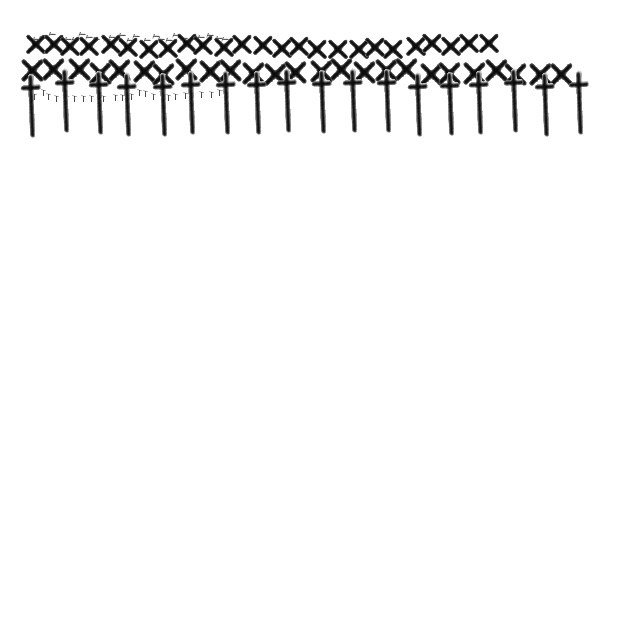double: (40, 54, 68, 84), (66, 54, 94, 84), (240, 58, 268, 88), (308, 56, 336, 86), (328, 54, 356, 84), (436, 58, 464, 88), (106, 56, 134, 84), (150, 60, 178, 88), (262, 60, 290, 88), (282, 58, 310, 86), (418, 60, 446, 88), (502, 60, 530, 88), (548, 60, 576, 88), (88, 58, 114, 88), (132, 56, 158, 86), (174, 54, 200, 84), (198, 56, 224, 86), (394, 54, 420, 84), (462, 58, 488, 88), (20, 56, 46, 84), (218, 56, 244, 84), (352, 58, 378, 86), (374, 56, 400, 84), (484, 56, 510, 84), (528, 60, 554, 88), (116, 34, 140, 60), (137, 36, 161, 62), (175, 30, 199, 56), (191, 32, 215, 58), (212, 34, 236, 60), (251, 32, 275, 58), (305, 36, 329, 62), (326, 36, 350, 62), (347, 36, 371, 62), (363, 34, 387, 60), (381, 36, 405, 62), (420, 30, 444, 56), (457, 30, 481, 56), (477, 30, 501, 56), (24, 32, 48, 56), (42, 32, 66, 56), (58, 34, 82, 58), (77, 34, 101, 58), (99, 32, 123, 56), (156, 36, 180, 60), (230, 32, 254, 56), (270, 36, 294, 60), (287, 34, 311, 58), (404, 34, 428, 58), (439, 34, 463, 58)
enseble_chain: (13, 73, 51, 139), (47, 68, 85, 134), (81, 70, 119, 136), (109, 72, 147, 138), (145, 72, 183, 138), (173, 70, 211, 136), (208, 70, 246, 136), (239, 70, 277, 136), (269, 68, 307, 134), (304, 69, 342, 135), (335, 68, 373, 134), (369, 68, 407, 134), (400, 72, 438, 138), (432, 71, 470, 137), (461, 70, 499, 136), (496, 68, 534, 134), (527, 72, 565, 138), (561, 70, 599, 136), (38, 36, 46, 42), (48, 32, 56, 38), (78, 32, 86, 38), (126, 38, 134, 44), (132, 34, 140, 40), (143, 38, 151, 44), (152, 34, 160, 40), (165, 38, 173, 44), (180, 36, 188, 42), (215, 36, 223, 42), (120, 94, 126, 102), (166, 94, 172, 102), (222, 90, 228, 98), (32, 94, 38, 100), (46, 94, 52, 100), (54, 96, 60, 102), (64, 96, 70, 102), (72, 96, 78, 102), (32, 38, 40, 42), (56, 38, 64, 42), (64, 38, 72, 42), (71, 38, 79, 42), (85, 36, 93, 40), (92, 38, 100, 42), (103, 38, 111, 42), (108, 36, 116, 40), (118, 34, 126, 38), (157, 38, 165, 42), (172, 34, 180, 38), (191, 36, 199, 40), (197, 36, 205, 40), (206, 34, 214, 38), (221, 38, 229, 42), (98, 94, 102, 102), (114, 94, 118, 102), (144, 90, 148, 98), (184, 92, 188, 100), (190, 94, 194, 102), (42, 90, 46, 96), (82, 96, 86, 102), (90, 96, 94, 102), (102, 96, 106, 102), (130, 94, 134, 100), (138, 90, 142, 96), (152, 94, 156, 100), (160, 92, 164, 98), (174, 94, 178, 100), (200, 92, 204, 98), (210, 92, 214, 98), (218, 90, 222, 96)
